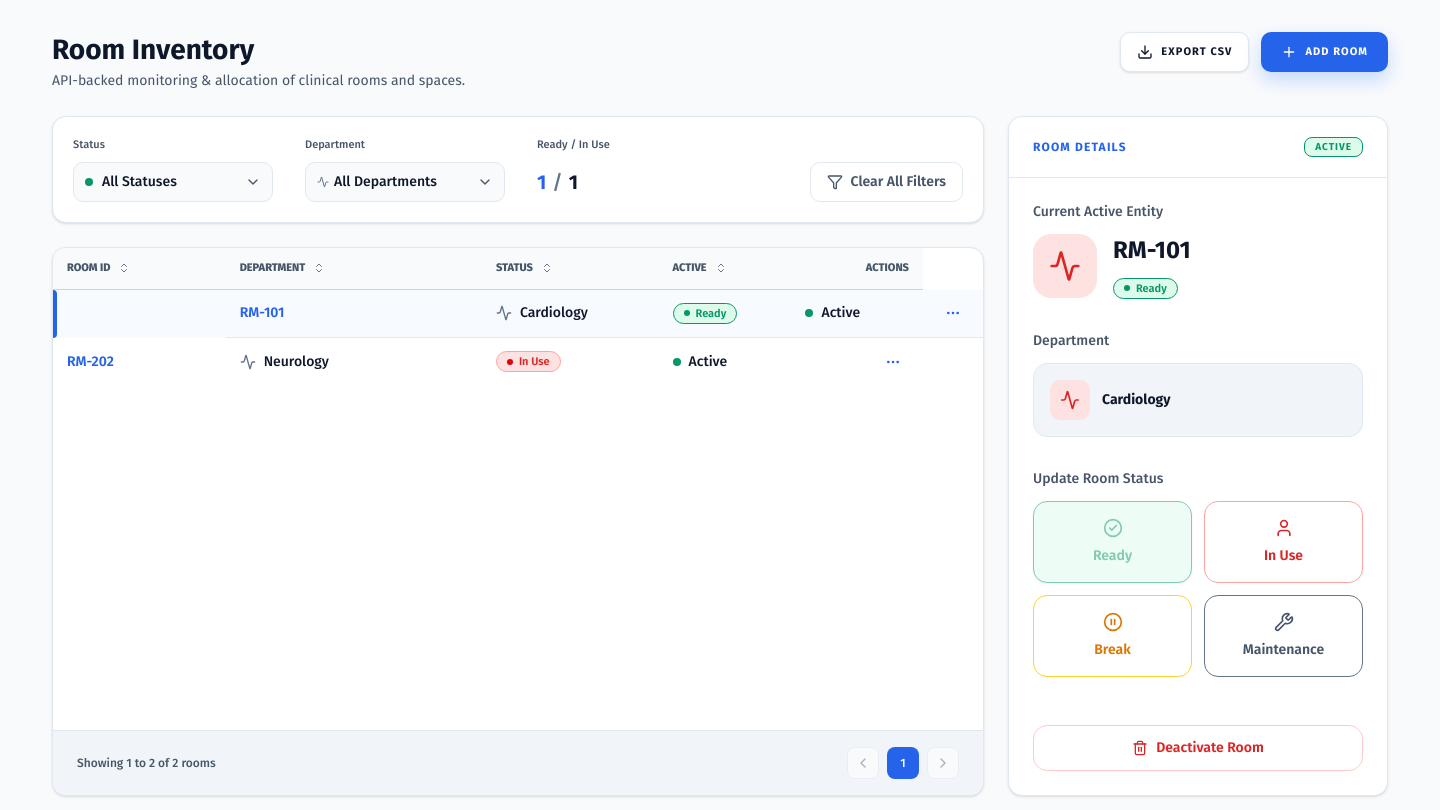
AdminRoomsPage › filters rooms by status and department
Select "IN USE" in the dropdown named "filter rooms by status": (173,182) [73, 162, 273, 202]
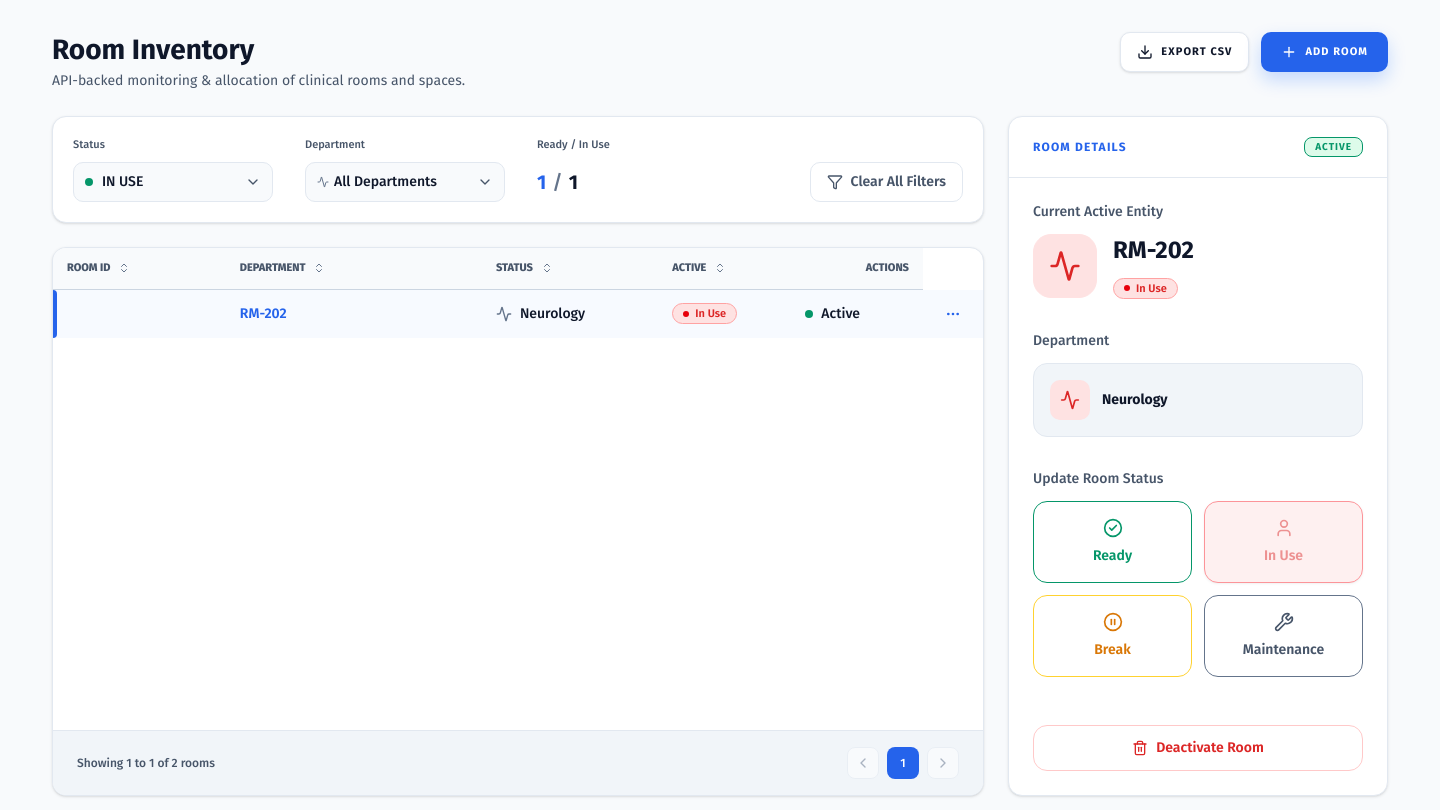
Now the text "RM-202" is shown 2 times, box [226, 290, 482, 338]; [1113, 234, 1194, 266]
Now the text "RM-101" is gone
